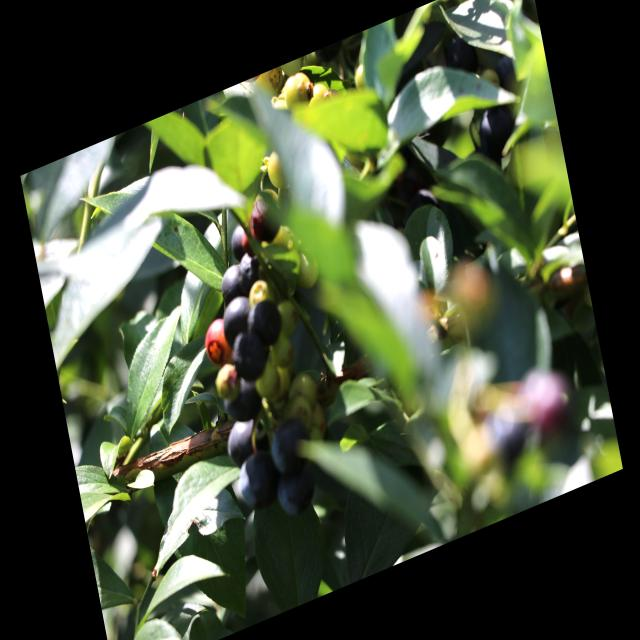blueberry: (235, 446, 282, 514), (268, 411, 314, 476), (272, 460, 320, 520), (223, 408, 270, 466), (229, 325, 270, 386), (221, 371, 265, 425), (219, 294, 257, 348), (247, 294, 284, 348), (227, 212, 260, 263), (217, 259, 252, 306)
blueberry-halfripe: (247, 187, 285, 249), (199, 314, 233, 368)
blueberry-unripe: (279, 68, 318, 119), (263, 145, 293, 195)
